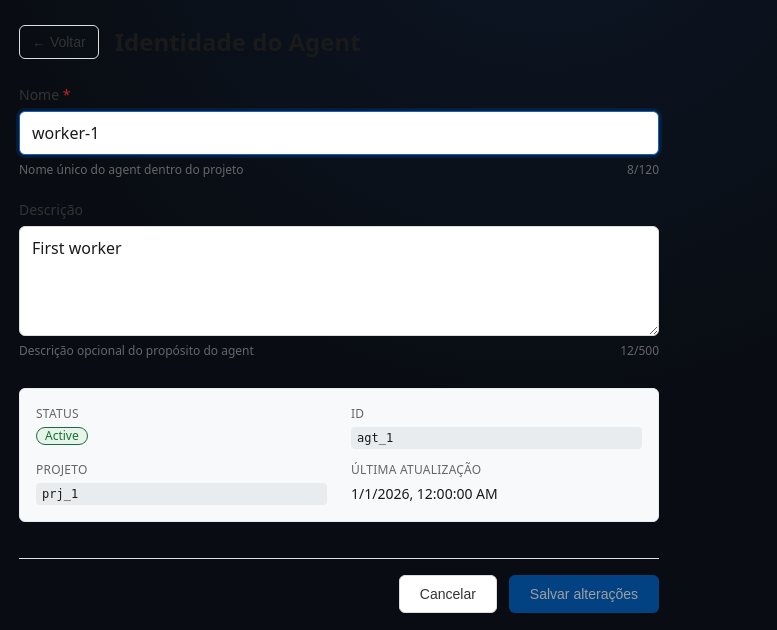
AgentIdentityPage › has loading state on submit button
This screenshot has width=777, height=630.
Replace the text in the field labelled "Nome *" with "updated-name" at (339, 133), box [19, 111, 659, 155]
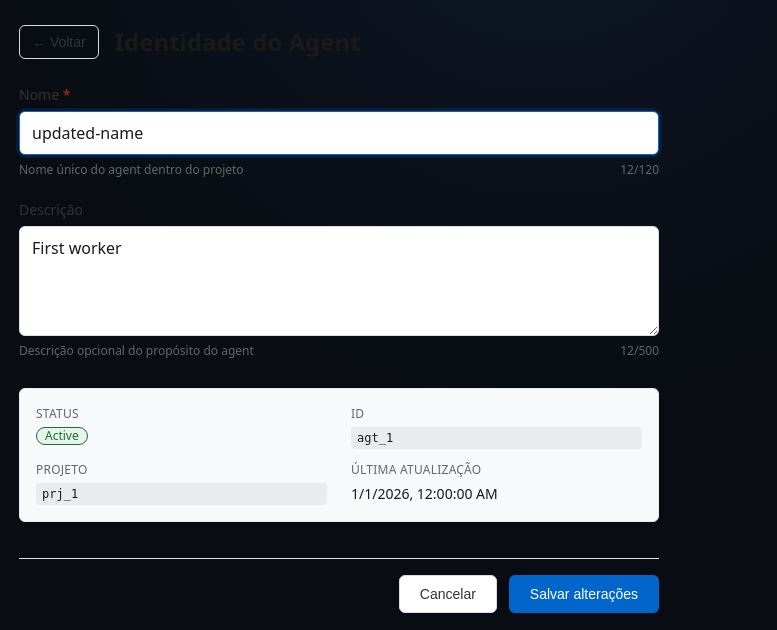
Click the button "Salvar alterações" at (584, 594), box [509, 575, 659, 613]
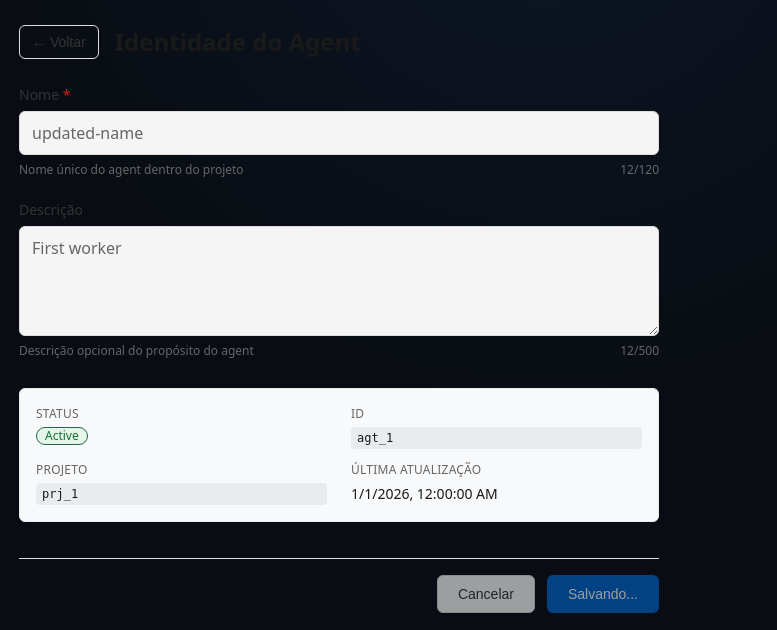
Expected: the button "Salvando..." is shown, [547, 575, 659, 613]
Expected: the button "Salvar alterações" is gone
